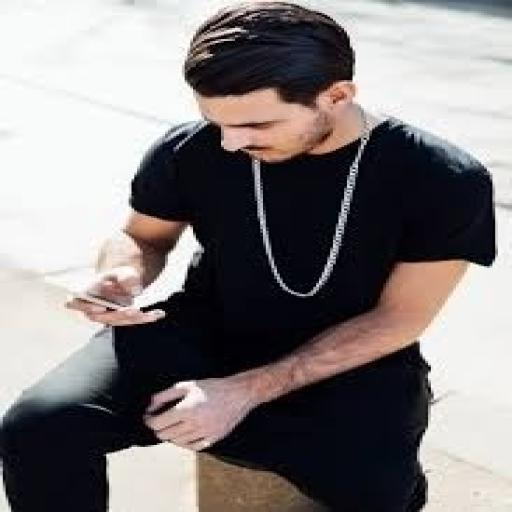texting: (0, 0, 498, 510)
